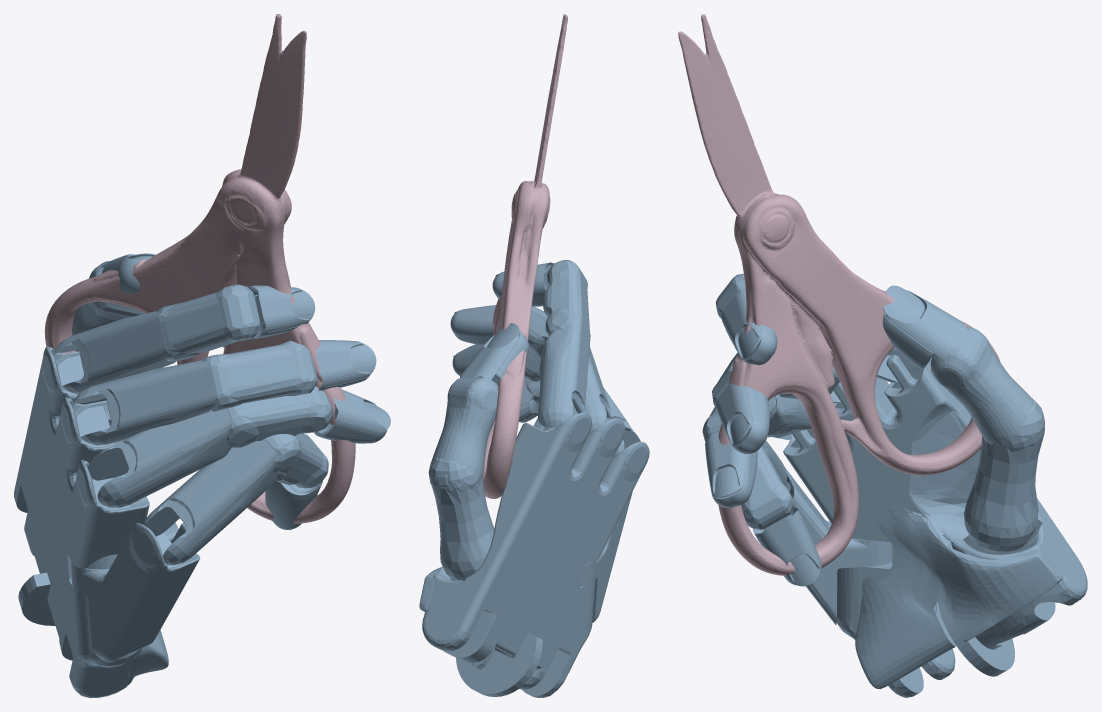
3 renders of one model, left to right at view 1: azimuth 30°, elevation 25°; view 2: azimuth 150°, elevation 25°; view 3: azimuth 270°, elevation 25°, orthographic. The views are drawn at different scales.
Visible parts, largest first — view 1: world, obj_mesh_grasp_0.obj; view 2: world, obj_mesh_grasp_0.obj; view 3: world, obj_mesh_grasp_0.obj.
Boxes of the visible parts, x1=… form: world: x1=14, y1=253, x2=390, y2=697; obj_mesh_grasp_0.obj: x1=44, y1=14, x2=355, y2=523; world: x1=419, y1=260, x2=649, y2=697; obj_mesh_grasp_0.obj: x1=482, y1=14, x2=567, y2=498; world: x1=702, y1=274, x2=1087, y2=697; obj_mesh_grasp_0.obj: x1=678, y1=14, x2=1000, y2=575.
Size of the model in its own units: 0.1032 by 0.2721 by 0.1415.
